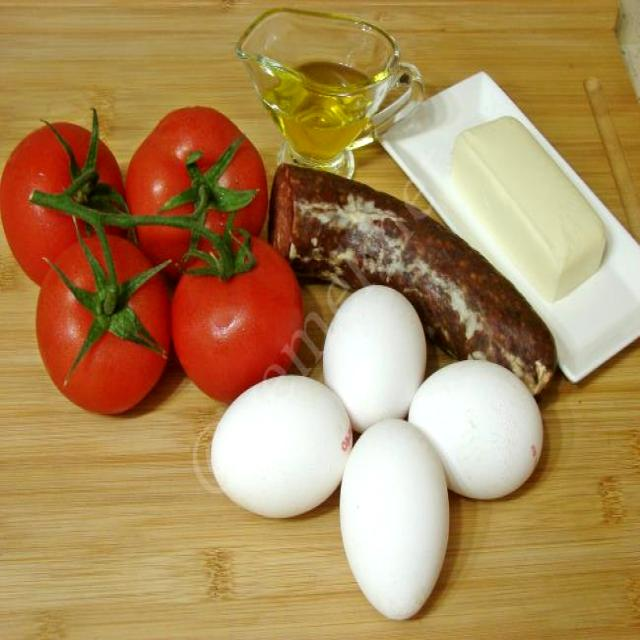cheese: (450, 104, 612, 305)
egg: (335, 412, 458, 627), (208, 367, 357, 523), (408, 354, 551, 504), (316, 280, 428, 426)
olive oil: (264, 29, 387, 179)
sausage: (272, 162, 561, 403)
tomato: (25, 220, 176, 420), (166, 224, 312, 406), (128, 97, 268, 273), (2, 102, 127, 288)
